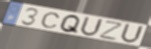3: (20, 8, 39, 26)
C: (39, 12, 61, 29)
Q: (58, 15, 82, 36)
U: (78, 16, 105, 38), (119, 22, 145, 44)
Z: (99, 21, 125, 42)
